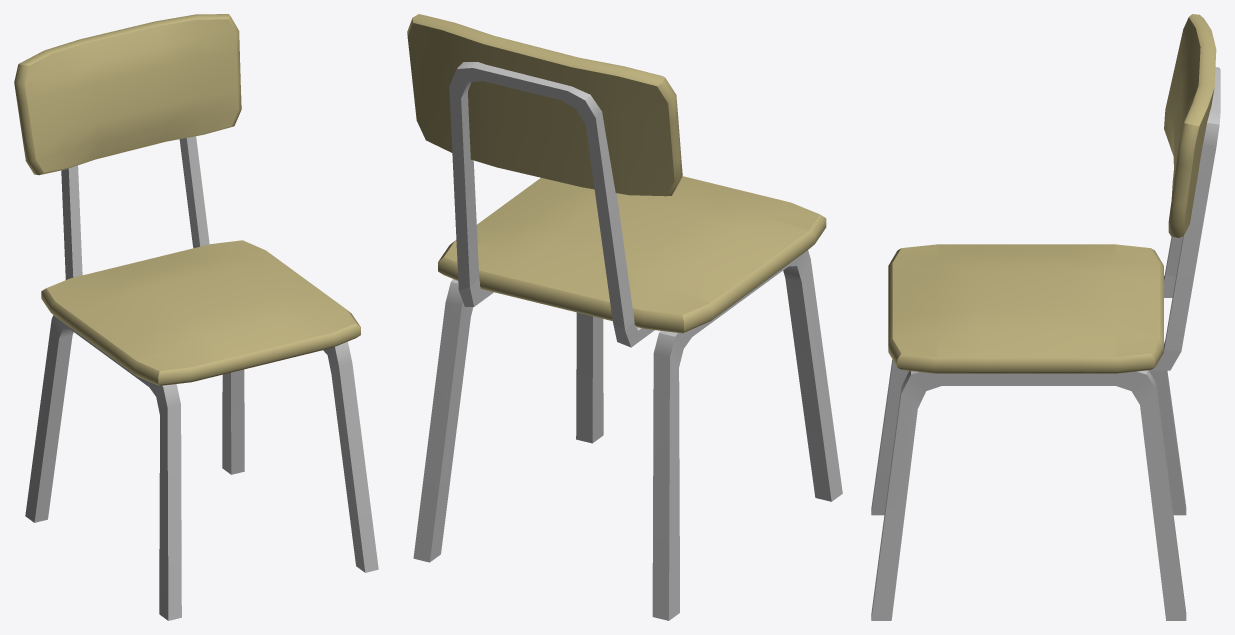
The model's file is apt_metal_chair_asset.fbx.
3 renders of one model, left to right at view 1: azimuth 30°, elevation 25°; view 2: azimuth 150°, elevation 25°; view 3: azimuth 270°, elevation 25°, orthographic. The views are drawn at different scales.
Parts seen in each view (by area): view 1: Chair:pCube1, Chair:pCube2, pPipe2, Chair:pPipe2, Chair:pPipe3; view 2: Chair:pCube1, Chair:pCube2, pPipe2, Chair:pPipe3, Chair:pPipe2; view 3: Chair:pCube1, Chair:pPipe2, Chair:pCube2, Chair:pPipe3, pPipe2.
Part boxes in pixels (box(x1,y1,x2,y2)): Chair:pCube1: box(41, 240, 360, 385); Chair:pCube2: box(14, 14, 241, 175); pPipe2: box(25, 315, 181, 620); Chair:pPipe2: box(222, 341, 378, 572); Chair:pPipe3: box(61, 136, 209, 279); Chair:pCube1: box(438, 176, 826, 333); Chair:pCube2: box(407, 14, 682, 196); pPipe2: box(652, 250, 842, 620); Chair:pPipe3: box(449, 62, 654, 347); Chair:pPipe2: box(413, 279, 603, 562); Chair:pCube1: box(888, 244, 1163, 373); Chair:pPipe2: box(871, 370, 1186, 620); Chair:pCube2: box(1164, 14, 1216, 237); Chair:pPipe3: box(1149, 67, 1220, 370); pPipe2: box(871, 359, 1186, 515).
Size of the model in its own units: 25.76 by 50.42 by 31.99.
